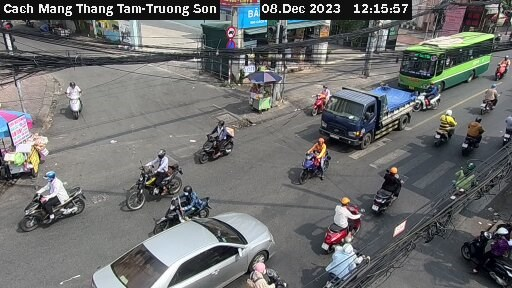bus: (400, 31, 500, 88)
car: (95, 214, 273, 288)
motorbike: (13, 175, 90, 235), (116, 153, 189, 205), (464, 221, 512, 285), (362, 167, 427, 214), (197, 115, 255, 164), (294, 136, 347, 183), (148, 184, 211, 221), (315, 196, 358, 247), (56, 75, 98, 123), (319, 242, 370, 281), (454, 114, 487, 159), (428, 105, 458, 142), (477, 88, 505, 122), (253, 263, 295, 283), (492, 108, 512, 146), (306, 84, 332, 111), (493, 53, 512, 84)
truck: (322, 84, 417, 144)
